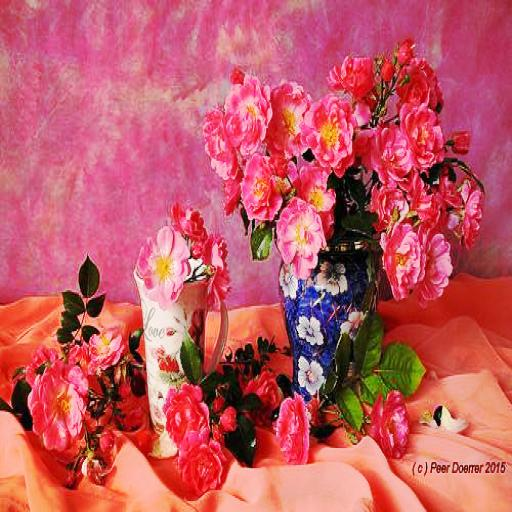rose: (28, 360, 88, 452), (301, 94, 357, 174), (276, 197, 324, 278), (138, 228, 190, 301), (224, 76, 270, 153), (172, 429, 225, 495), (398, 94, 444, 167), (164, 384, 211, 448), (366, 114, 412, 179), (381, 223, 421, 297), (240, 153, 280, 222), (414, 232, 450, 300), (279, 393, 309, 467), (460, 181, 482, 248)
